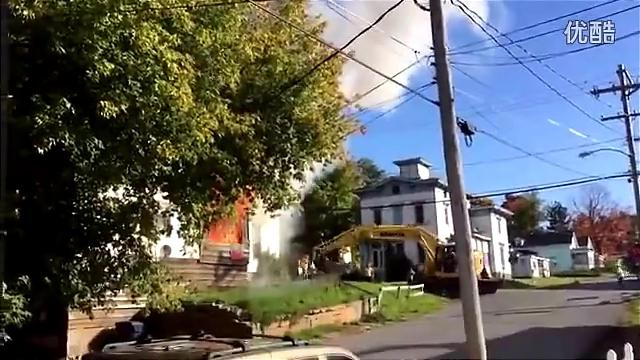fire: (209, 218, 241, 244)
